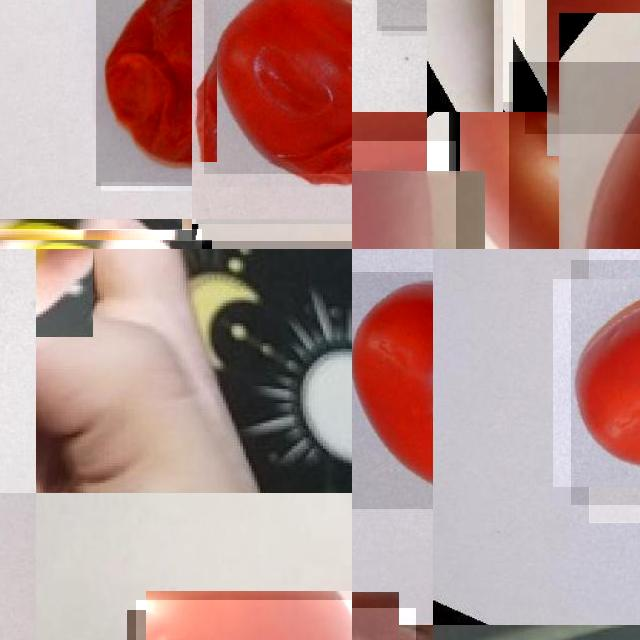Fresh Tomato: (509, 62, 640, 249), (352, 272, 433, 509), (571, 260, 640, 505), (525, 0, 640, 134), (352, 141, 456, 249)
Rotten Tomato: (204, 0, 352, 174), (96, 0, 192, 186)
